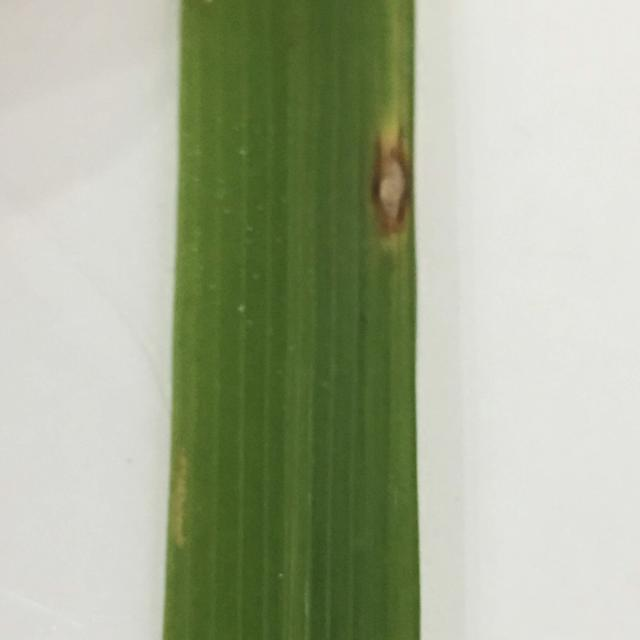Blast: (362, 152, 412, 236)
